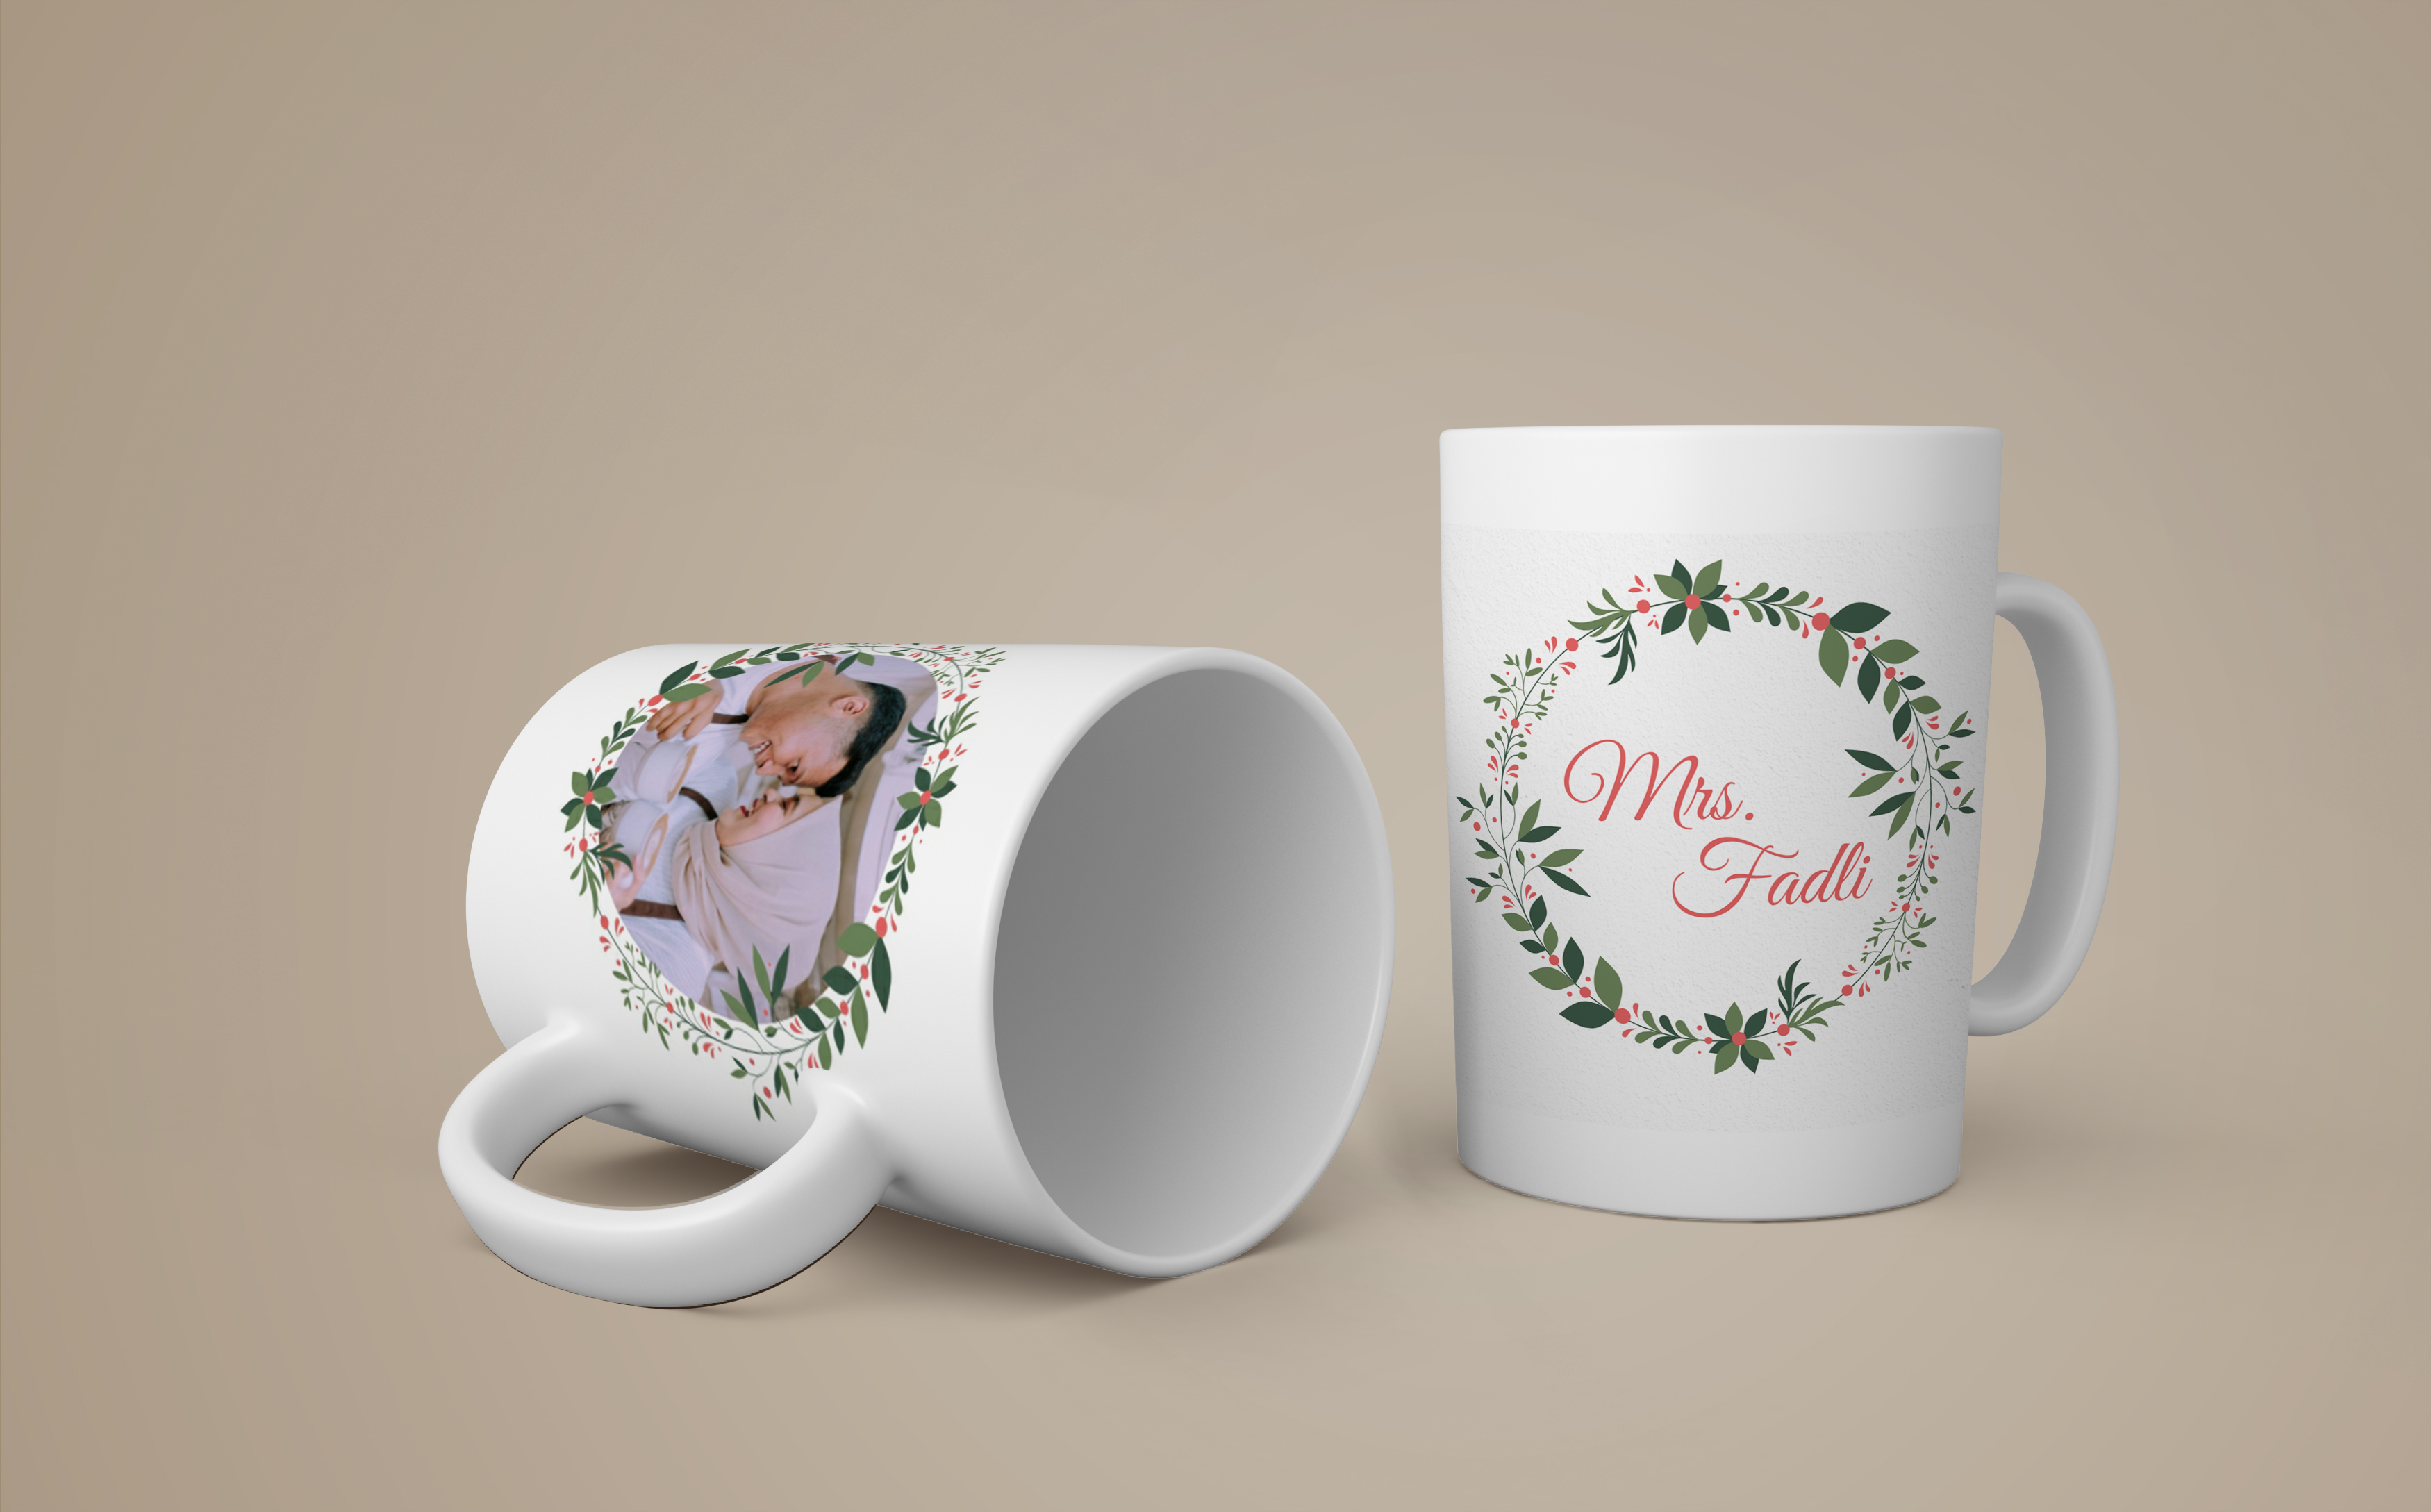gelas: (435, 634, 1404, 1366), (1431, 423, 2116, 1223)
